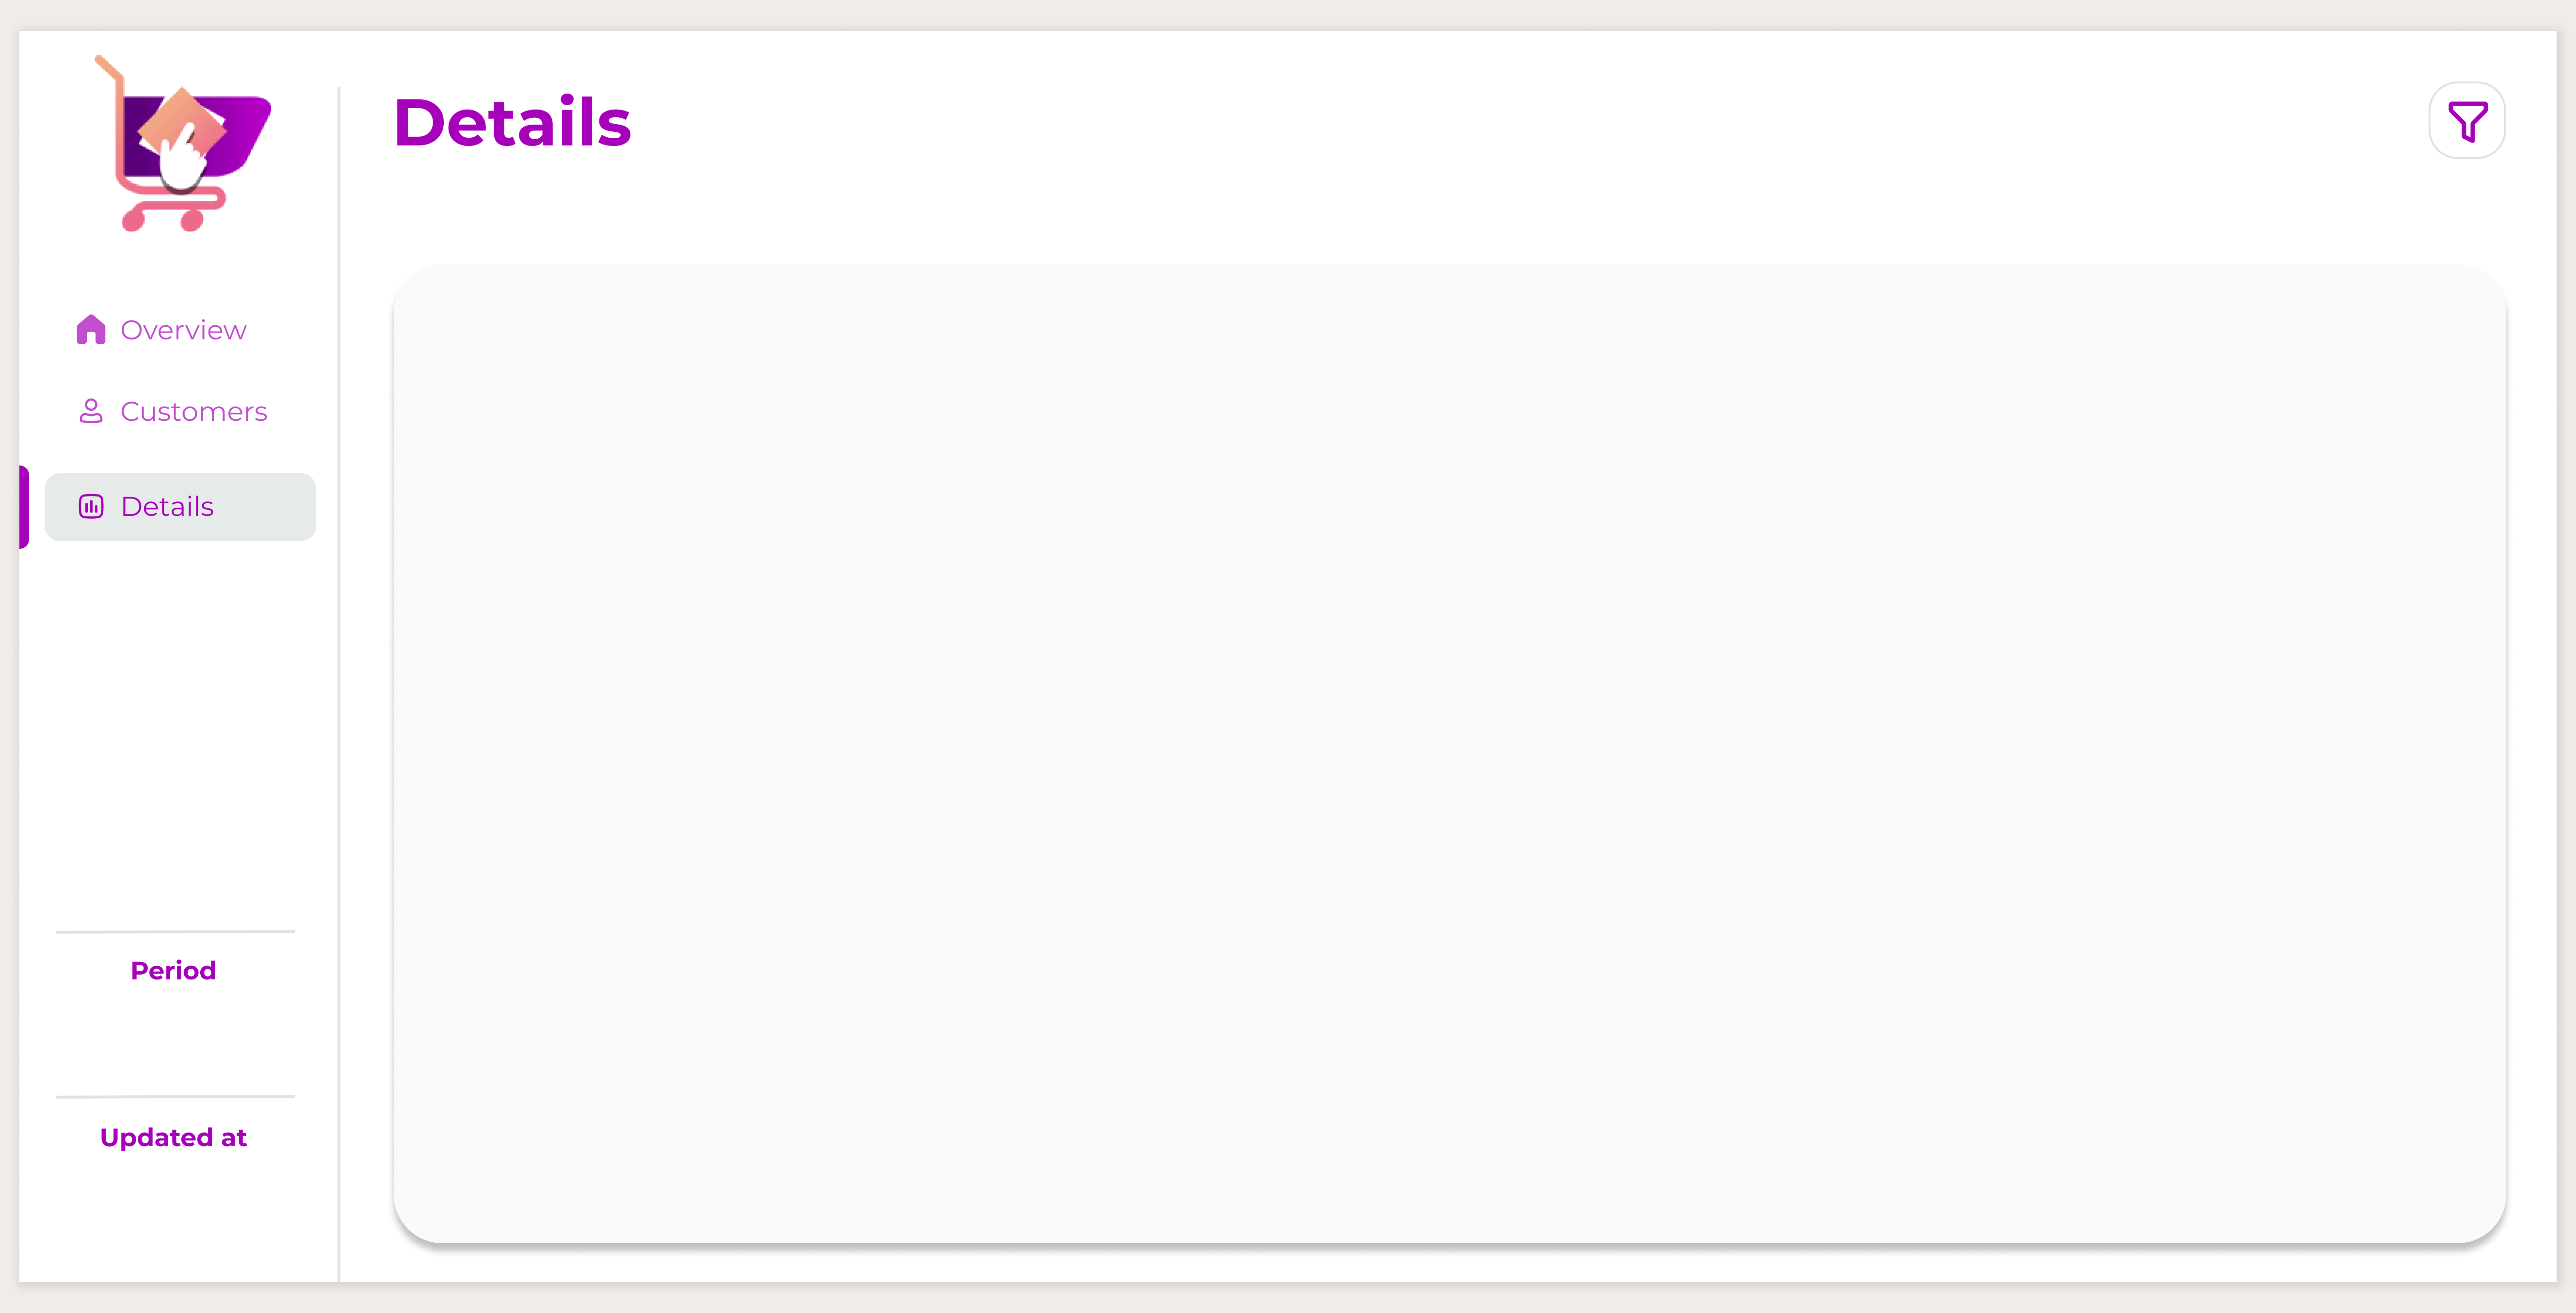

Layout of this report page (visuals, bound fields, positions):
{"tool":"powerbi","page":{"name":"Details","canvas":[1328,677],"ordinal":2},"visuals":[{"type":"textbox","box":[11.4,517.1,162.9,41.4],"z":0},{"type":"shape","box":[1250,38.3,56.7,48.3],"z":1000},{"type":"tableEx","fields":{"Values":["Order Details.Order ID","List of Orders.Order Date","Order Details.Category","List of Orders.State","List of Orders.City","List of Orders.CustomerName","Order Details.Sub-Category","Sum(Order Details.Amount)","Sum(Order Details.Profit)","Sum(Order Details.Quantity)"]},"box":[211.4,147.1,1081.4,488.6],"z":2000},{"type":"card","fields":{"Values":["Min(updated.updated)"]},"box":[10,570,162.9,95.7],"z":4000},{"type":"shape","box":[38.6,147.1,105.7,35.7],"z":4001},{"type":"shape","box":[40,195.7,105.7,35.7],"z":4002}]}

Visuals, with their boxes on the page's 1328x677 design canvas (x1, y1, x2, y2). These are canvas units, not pixel positions in the 2576x1313 screenshot, which may show the page scaled, cropped or inside an application window:
textbox: 11 517 174 558
shape: 1250 38 1307 87
tableEx - Order Details.Order ID x List of Orders.Order Date: 211 147 1293 636
card - Min(updated.updated): 10 570 173 666
shape: 39 147 144 183
shape: 40 196 146 231
